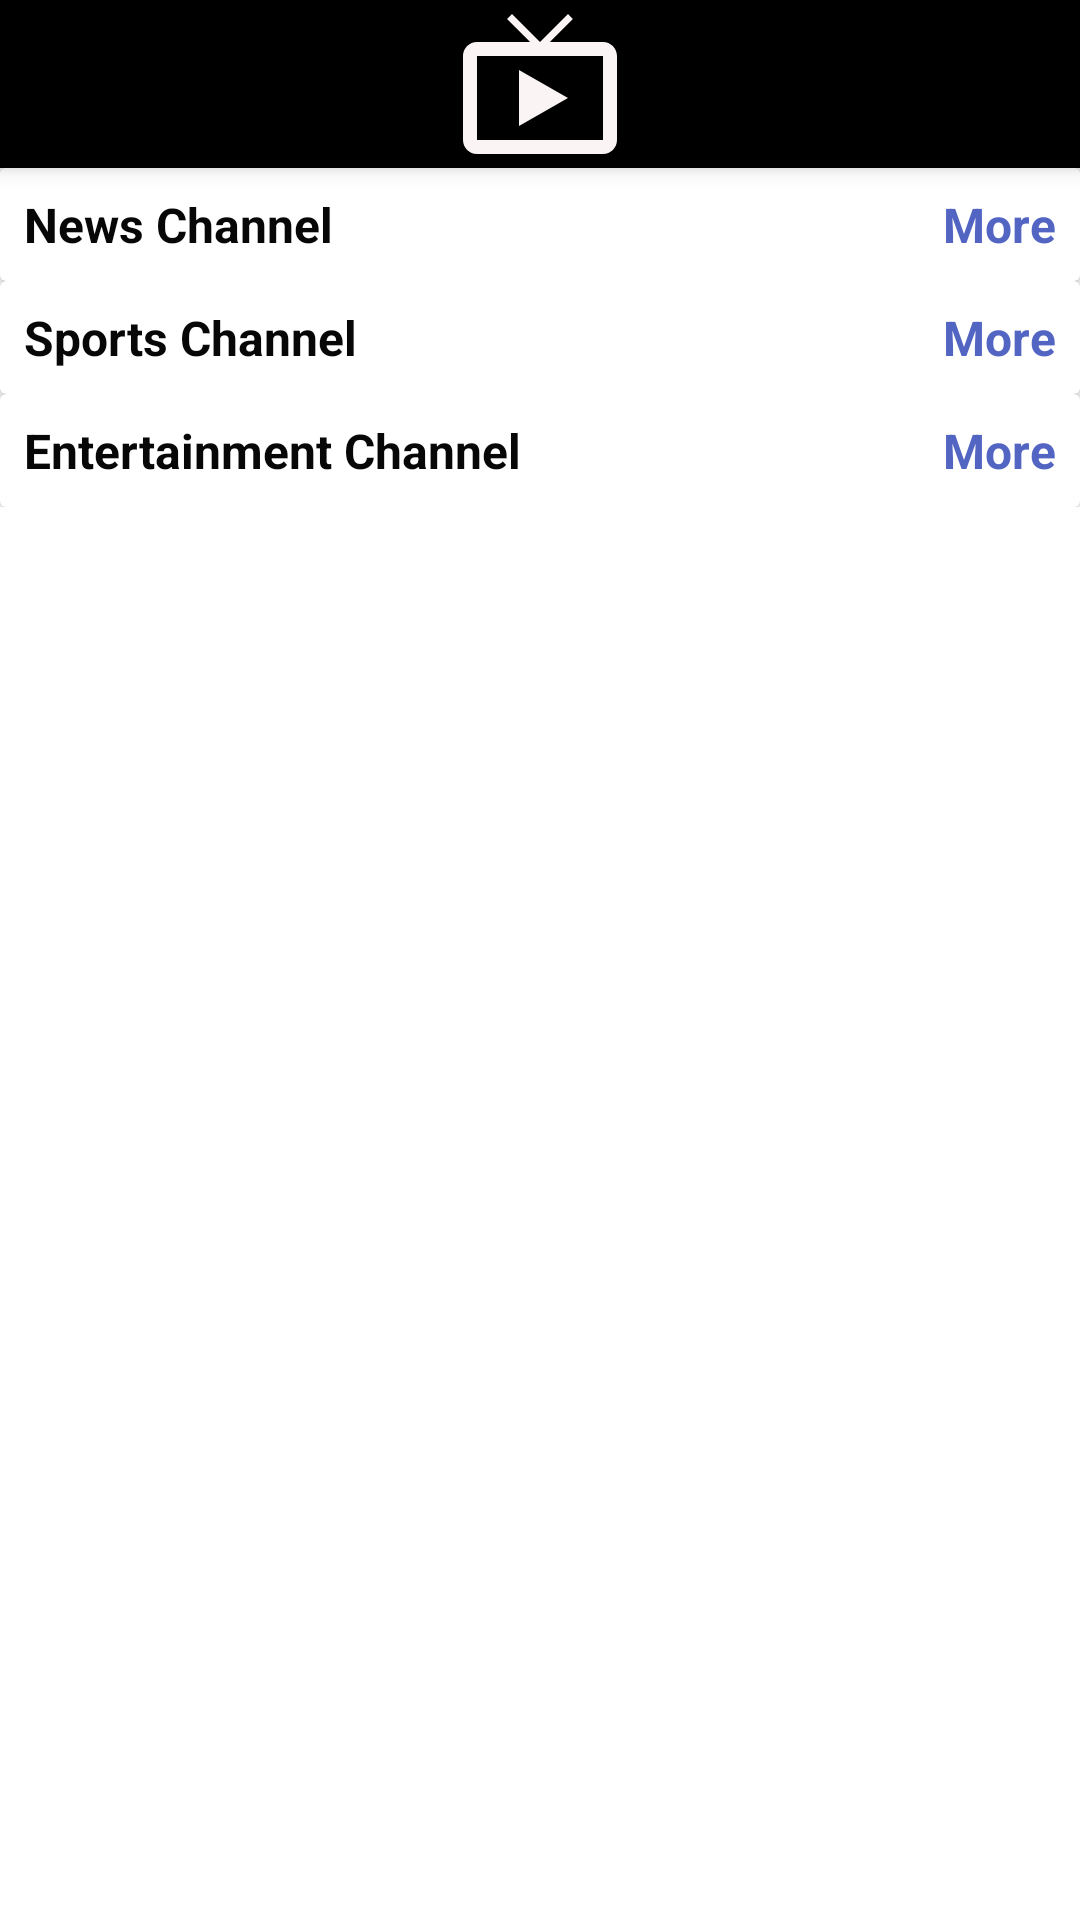

Screen size 1080 x 1920. Icon name, then its box in pixels as {"left": x1, "top": y1, "right": x2, "bottom": y2}:
live tv: {"left": 463, "top": 14, "right": 617, "bottom": 154}
